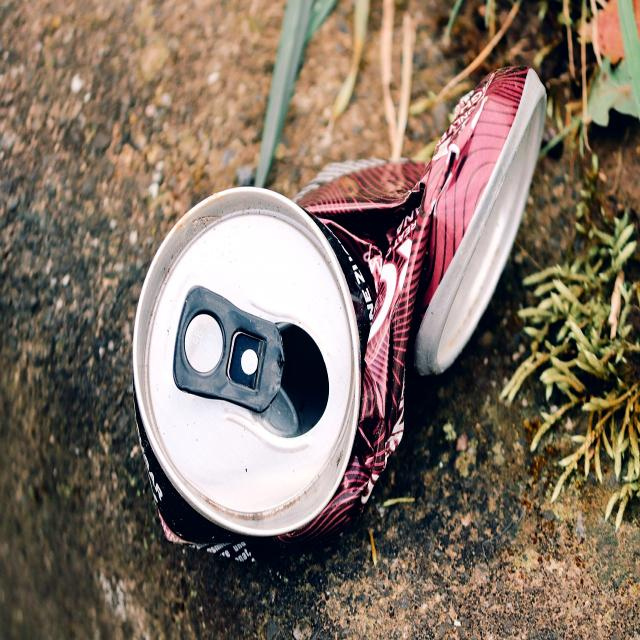Metal: (124, 57, 554, 579)
